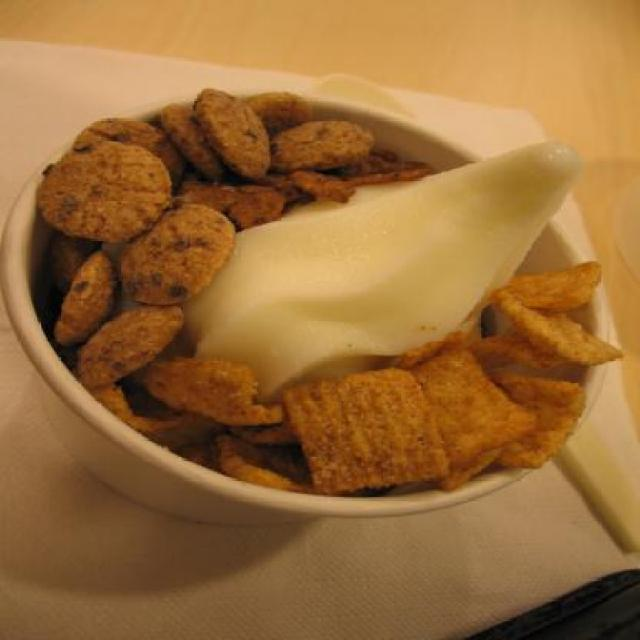Cookie: (39, 144, 173, 242), (123, 206, 240, 306), (80, 300, 182, 388), (62, 114, 193, 172), (200, 90, 286, 174), (50, 256, 121, 347), (268, 120, 378, 174), (169, 104, 225, 174), (240, 92, 317, 134)
